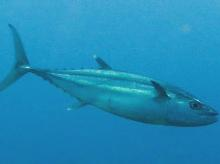Scombridae -Tunas-: (0, 19, 220, 130)
